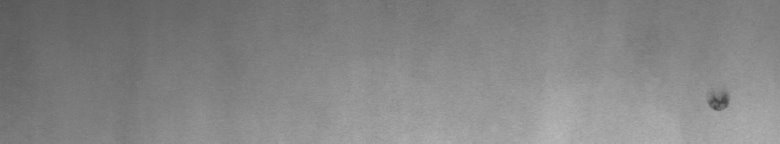fi: (704, 88, 735, 119)
